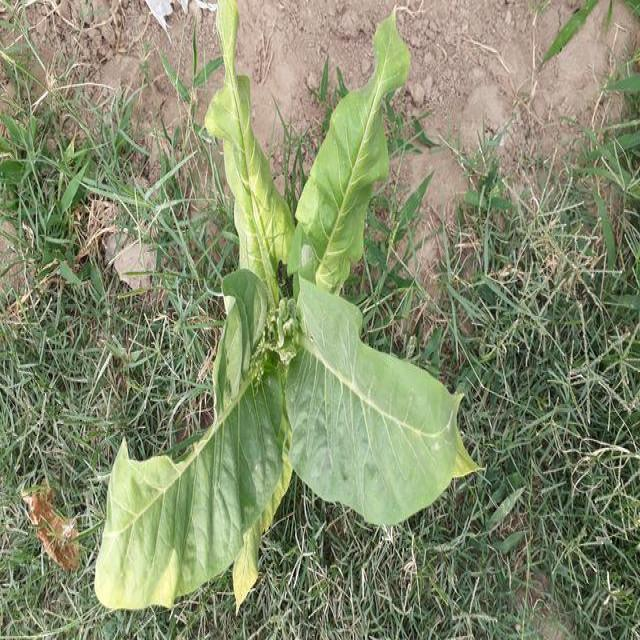crop: (102, 4, 478, 632)
